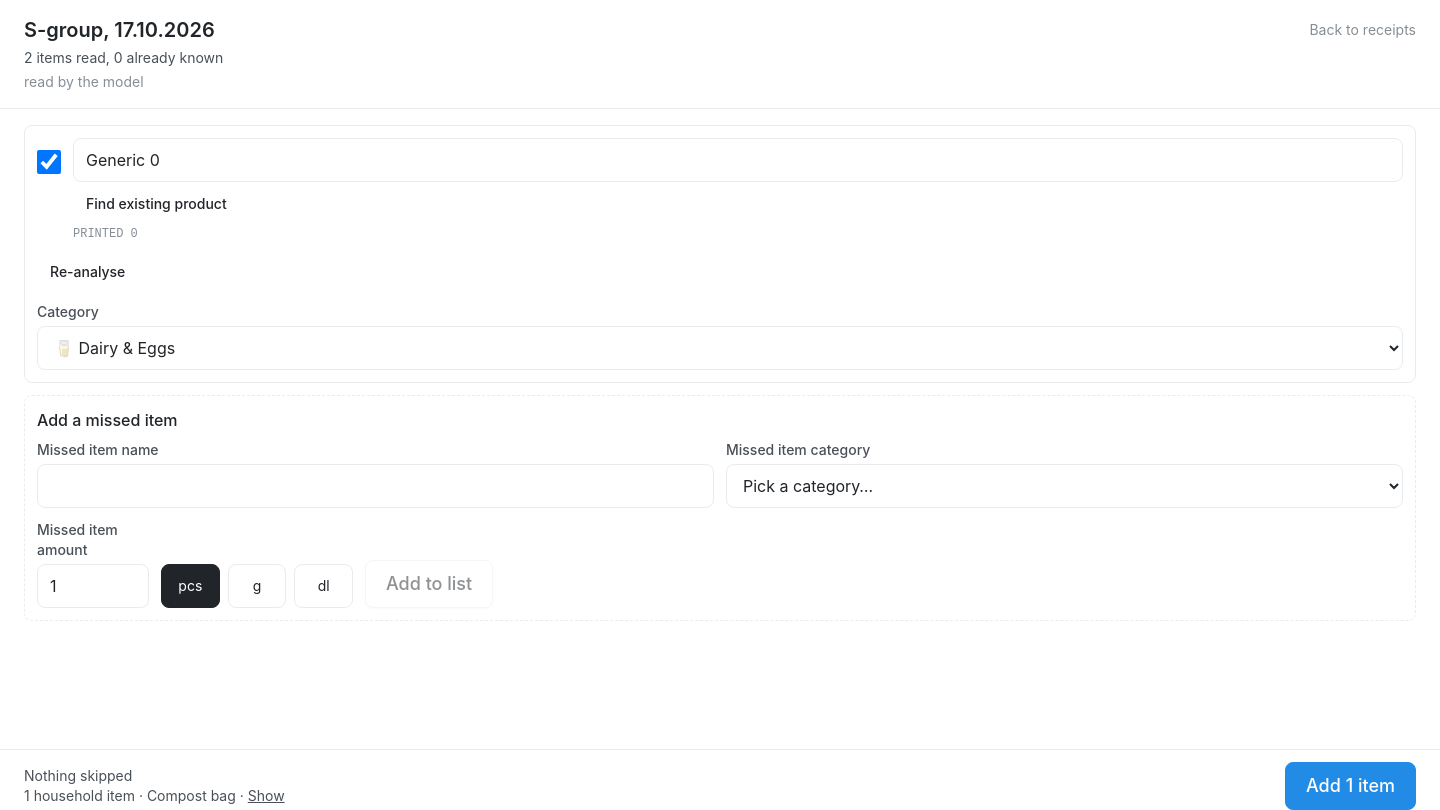
Test: ReceiptReviewPage › shows household lines again on request
expect the text "PRINTED 0" is shown: met, box [73,227,138,241]
Click the button "Show" at (266, 796), box [248,786,285,806]
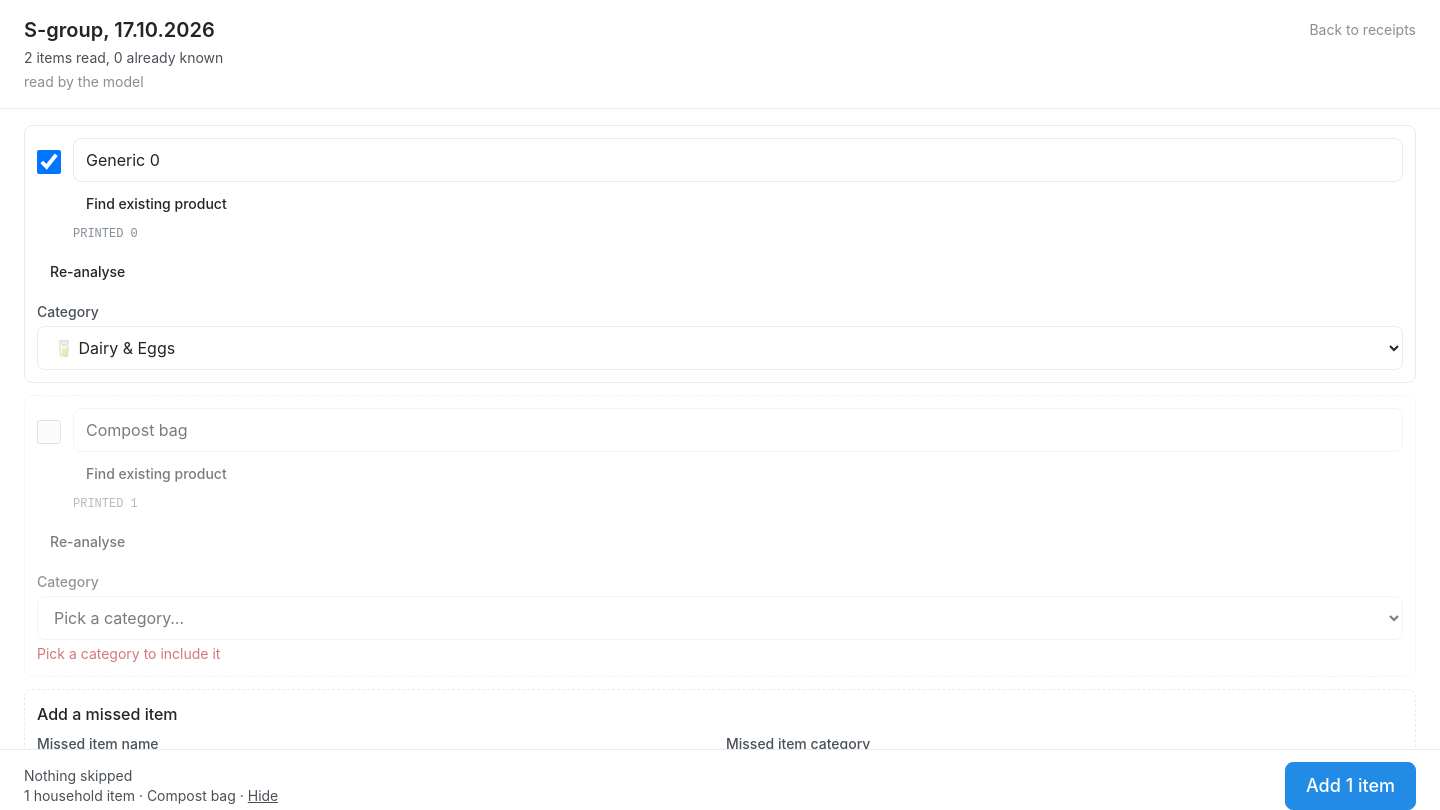
expect the number of list items is 2: met, box [24,125,1416,383]; [24,395,1416,677]
